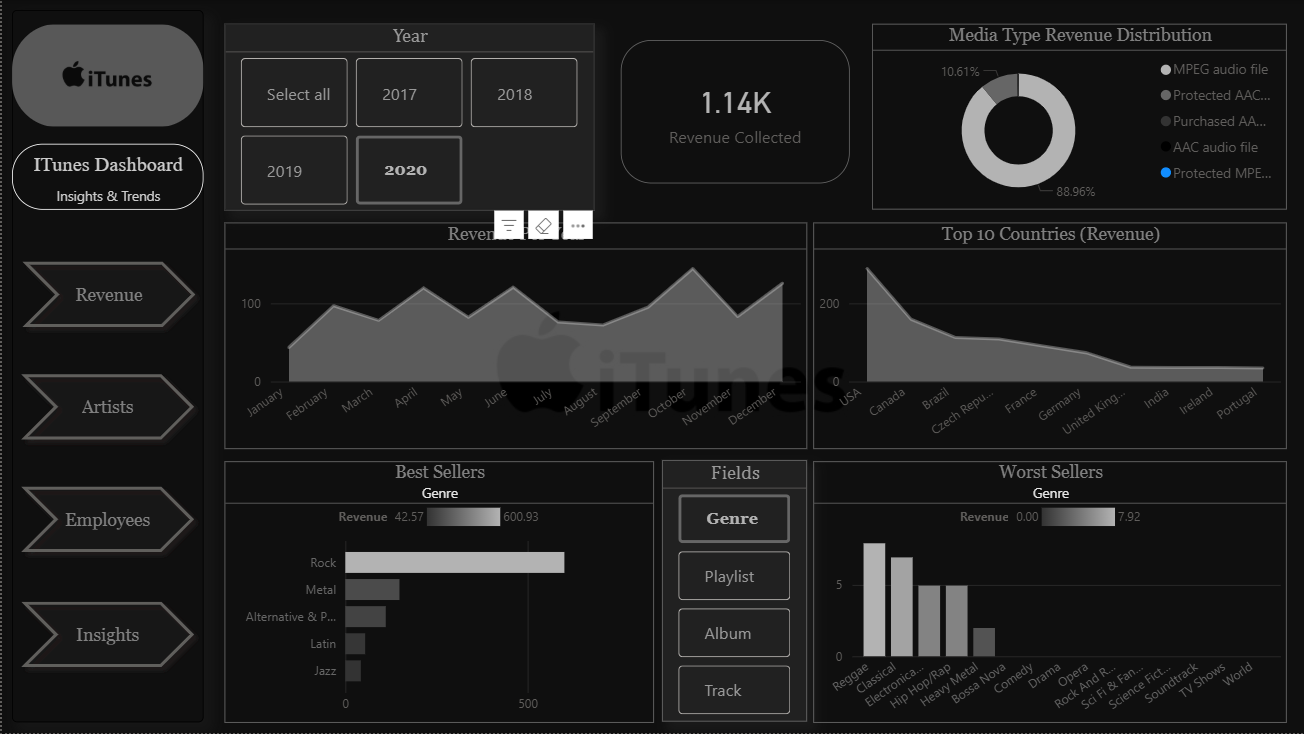

The dashboard page shown, as its layout file describes it:
{"tool":"powerbi","page":{"name":"Home","canvas":[1280,720],"ordinal":0},"visuals":[{"type":"textbox","box":[9.8,9.8,187.7,699.4],"z":0},{"type":"actionButton","box":[11,247.9,187.7,82.2],"z":1000},{"type":"actionButton","box":[9.8,358.3,187.7,82.2],"z":2000},{"type":"actionButton","box":[9.8,468.7,187.7,82.2],"z":3000},{"type":"actionButton","box":[9.8,581.6,187.7,82.2],"z":4000},{"type":"clusteredBarChart","title":"Best Sellers","fields":{"Category":["genre.name"],"Y":["invoice_line.Total_Revenue"]},"box":[218.2,452.8,421.3,256.6],"z":5000},{"type":"card","fields":{"Values":["invoice_line.Total_Revenue"]},"box":[607.4,39.3,224.5,141.1],"z":6000},{"type":"donutChart","title":"Media Type Revenue Distribution","fields":{"Category":["media_type.name"],"Y":["invoice_line.Total_Revenue"]},"box":[853.5,23.3,407.5,182.5],"z":7000},{"type":"advancedSlicerVisual","title":"Fields","fields":{"Values":["Parameter.Parameter"]},"box":[648,452,142.7,256.6],"z":8000},{"type":"clusteredColumnChart","title":"Worst Sellers","fields":{"Category":["genre.name"],"Y":["invoice_line.Total_Revenue"]},"box":[795.9,452.8,465.2,256.6],"z":9000},{"type":"lineChart","title":"Revenue Per Year","fields":{"Category":["invoice.invoice_date.Variation.Date Hierarchy.Month"],"Y":["invoice_line.Total_Revenue"]},"box":[218.4,218.4,571.8,222.1],"z":10000},{"type":"lineChart","title":"Top 10 Countries (Revenue)","fields":{"Category":["invoice.billing_country"],"Y":["invoice_line.Total_Revenue"]},"box":[796.3,218.4,465,222.1],"z":11000},{"type":"image","box":[9.8,23.3,187.7,101.8],"z":12000},{"type":"textbox","title":"ITunes Dashboard","box":[9.8,141.1,187.7,65],"z":13000},{"type":"advancedSlicerVisual","fields":{"Values":["invoice.invoice_date.Variation.Date Hierarchy.Year"]},"box":[218.4,23.3,363.2,182.8],"z":14000}]}

Visuals, with their boxes in screenshot pixels (x1, y1, x2, y2), scaled from the page's 1280x720 canvas onto the 1304x734 screenshot:
textbox: {"x1": 10, "y1": 10, "x2": 201, "y2": 723}
actionButton: {"x1": 11, "y1": 253, "x2": 202, "y2": 337}
actionButton: {"x1": 10, "y1": 365, "x2": 201, "y2": 449}
actionButton: {"x1": 10, "y1": 478, "x2": 201, "y2": 562}
actionButton: {"x1": 10, "y1": 593, "x2": 201, "y2": 677}
"Best Sellers" clusteredBarChart: {"x1": 222, "y1": 462, "x2": 651, "y2": 723}
card - invoice_line.Total_Revenue: {"x1": 619, "y1": 40, "x2": 847, "y2": 184}
"Media Type Revenue Distribution" donutChart: {"x1": 870, "y1": 24, "x2": 1285, "y2": 210}
"Fields" advancedSlicerVisual: {"x1": 660, "y1": 461, "x2": 806, "y2": 722}
"Worst Sellers" clusteredColumnChart: {"x1": 811, "y1": 462, "x2": 1285, "y2": 723}
"Revenue Per Year" lineChart: {"x1": 222, "y1": 223, "x2": 805, "y2": 449}
"Top 10 Countries (Revenue)" lineChart: {"x1": 811, "y1": 223, "x2": 1285, "y2": 449}
image: {"x1": 10, "y1": 24, "x2": 201, "y2": 128}
"ITunes Dashboard" textbox: {"x1": 10, "y1": 144, "x2": 201, "y2": 210}
advancedSlicerVisual - invoice.invoice_date.Variation.Date Hierarchy.Year: {"x1": 222, "y1": 24, "x2": 593, "y2": 210}
